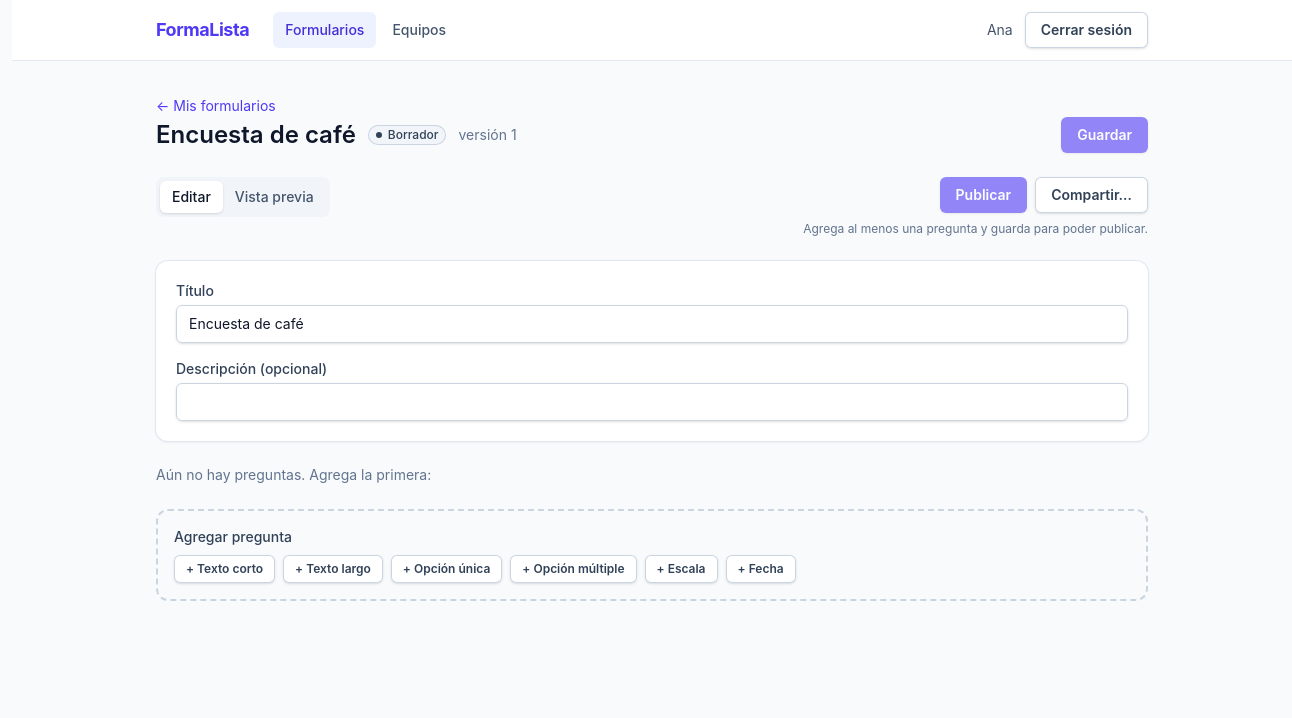
Editor: cargar y construir preguntas › al pasar a un tipo de opciones, propone dos opciones
Click the button "+ Texto corto" at [225, 569], box [174,555,275,583]
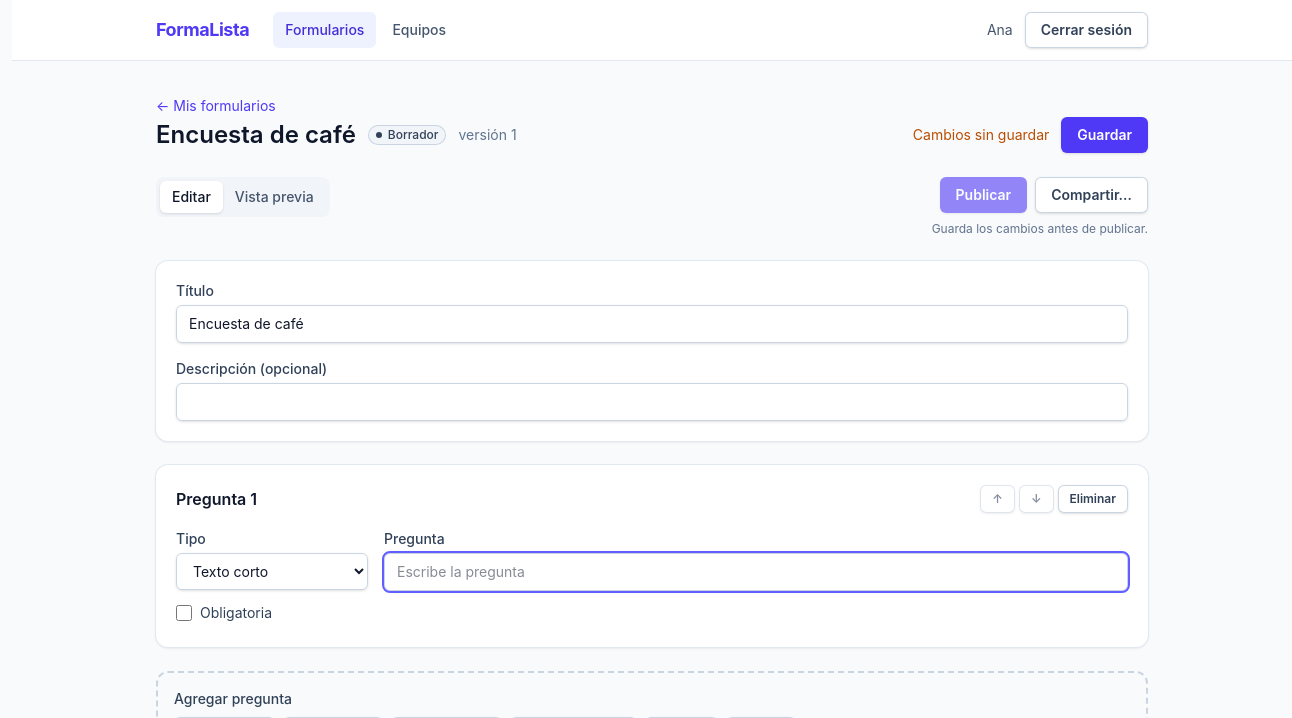
Expected: the field labelled "Opción 1" is not shown
Select "Opción única" in the dropdown labelled "Tipo" at [272, 572], box [176,553,368,590]
(page scrolled)
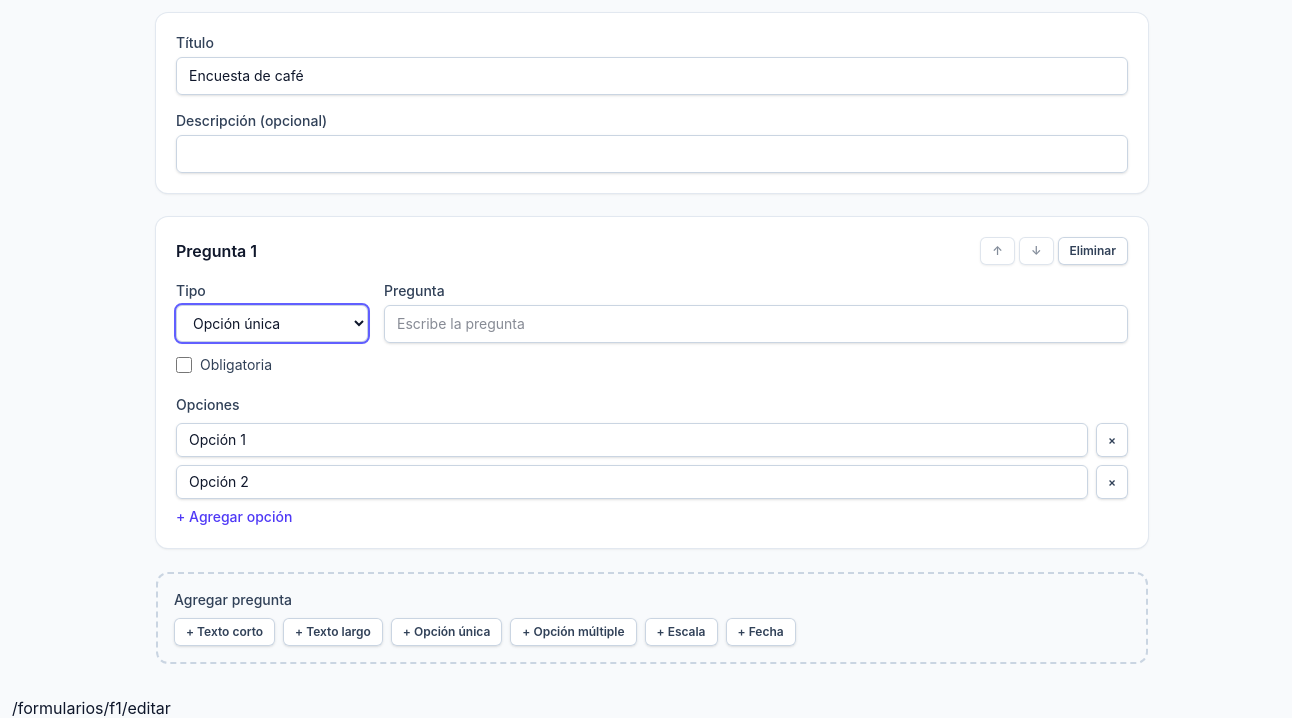
Expected: the field named "Opción 1" is shown, [176,423,1088,457]
Expected: the field named "Opción 2" is shown, [176,465,1088,499]
